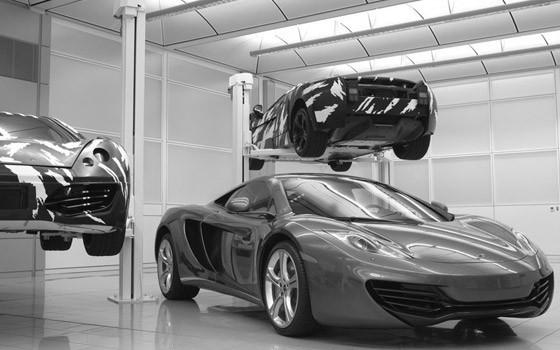car: (155, 174, 557, 338)
